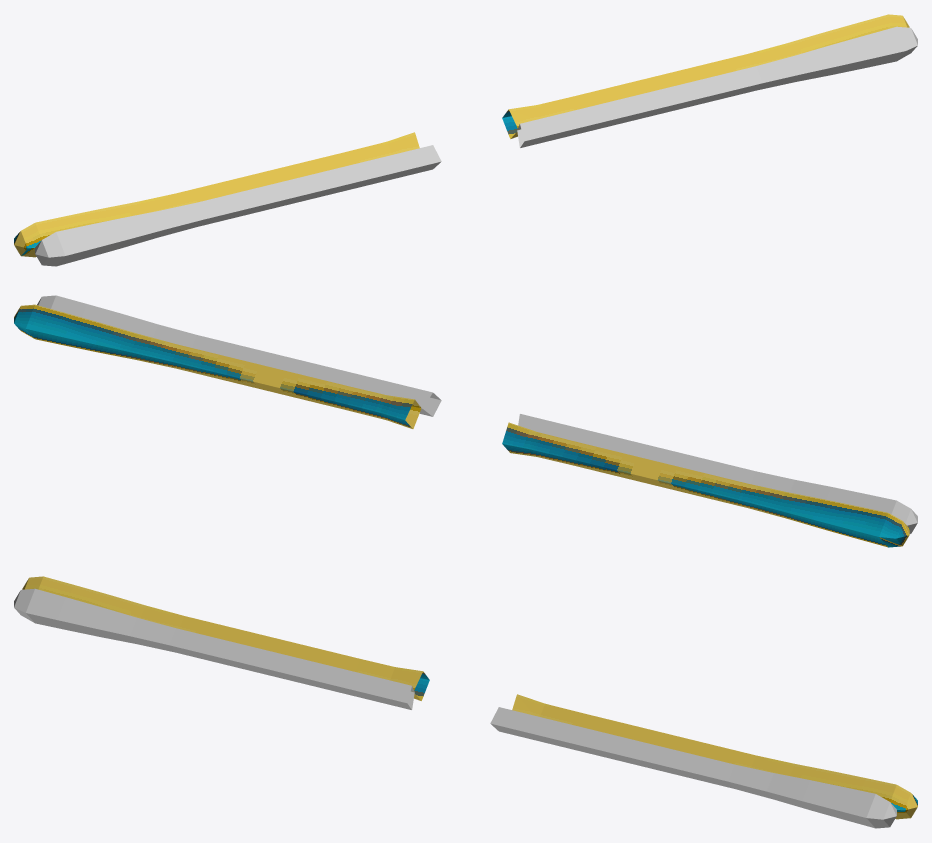
Rendered from BR_Deoxys-Shiny01.obj.
The picture shows the model from 3 angles, top to bottom: view 1: azimuth 30°, elevation 25°; view 2: azimuth 150°, elevation 25°; view 3: azimuth 330°, elevation 25°; orthographic projection.
Visible parts, largest first — view 1: deoxys; view 2: deoxys; view 3: deoxys.
Boxes of the visible parts, x1,y1,x2,y2 form: deoxys: (14,14,917,266); deoxys: (14,295,917,547); deoxys: (14,576,917,828).
Size of the model in its own units: 28.2 by 1.04 by 1.82.
